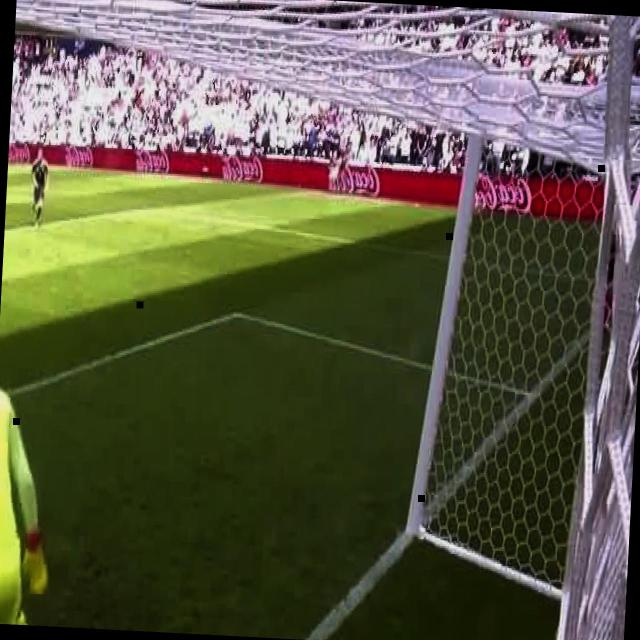player-white: (0, 299, 77, 627), (30, 147, 50, 225)
